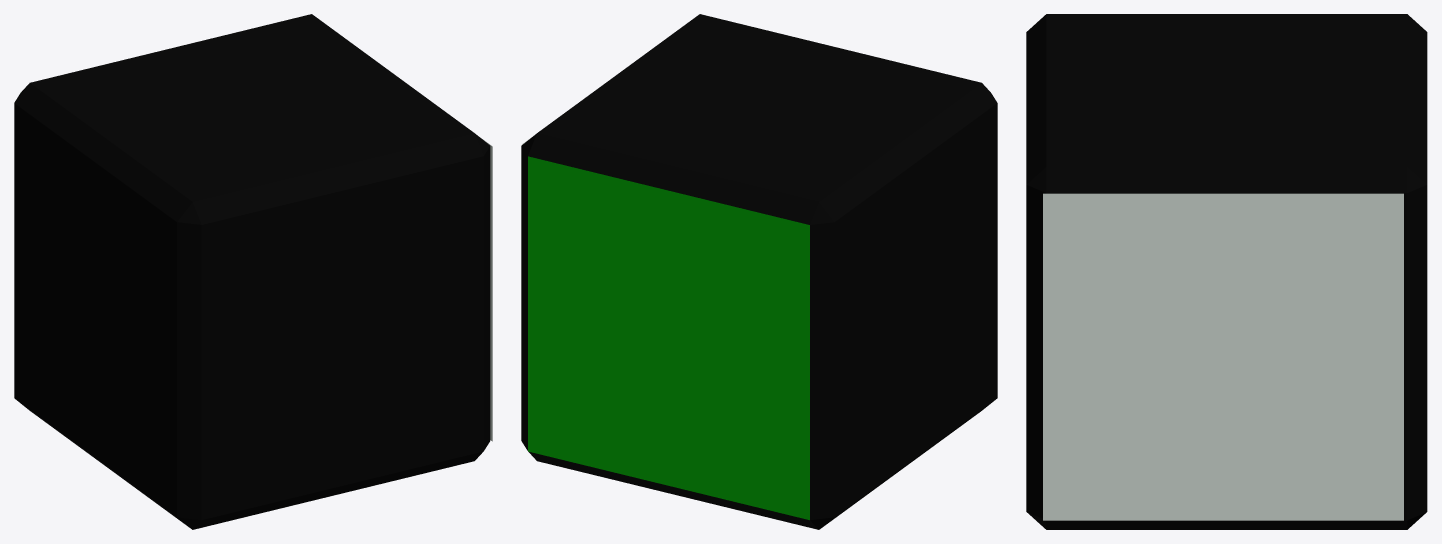
File: rubic10.obj
3 views of the same model, side by side, from view 1: azimuth 30°, elevation 25°; view 2: azimuth 150°, elevation 25°; view 3: azimuth 270°, elevation 25° (orthographic). The views are drawn at different scales.
Parts seen in each view (by area): view 1: Cube.029_Cube.047; view 2: Cube.029_Cube.047; view 3: Cube.029_Cube.047.
Part boxes in pixels (bbox=[...]): Cube.029_Cube.047: bbox=[14, 14, 492, 529]; Cube.029_Cube.047: bbox=[521, 14, 997, 529]; Cube.029_Cube.047: bbox=[1026, 14, 1427, 529].
Size of the model in its own units: 2.01 by 2 by 2.
